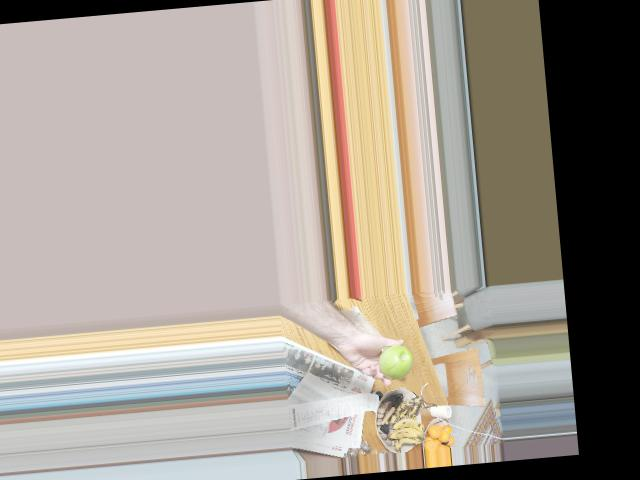apple: (374, 339, 417, 382)
